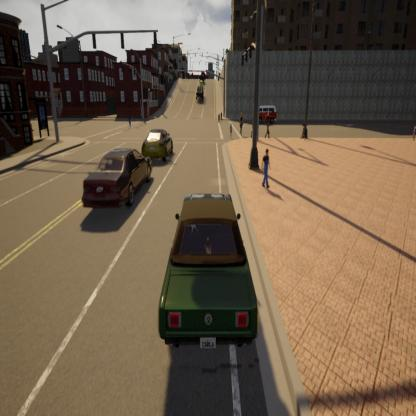Cars: (155, 179, 259, 369), (74, 124, 155, 230), (137, 110, 175, 175), (191, 79, 206, 107), (193, 62, 209, 88)
Pedestrian: (259, 139, 274, 203), (235, 108, 247, 140), (263, 110, 272, 142), (228, 116, 234, 140), (216, 106, 223, 126)
